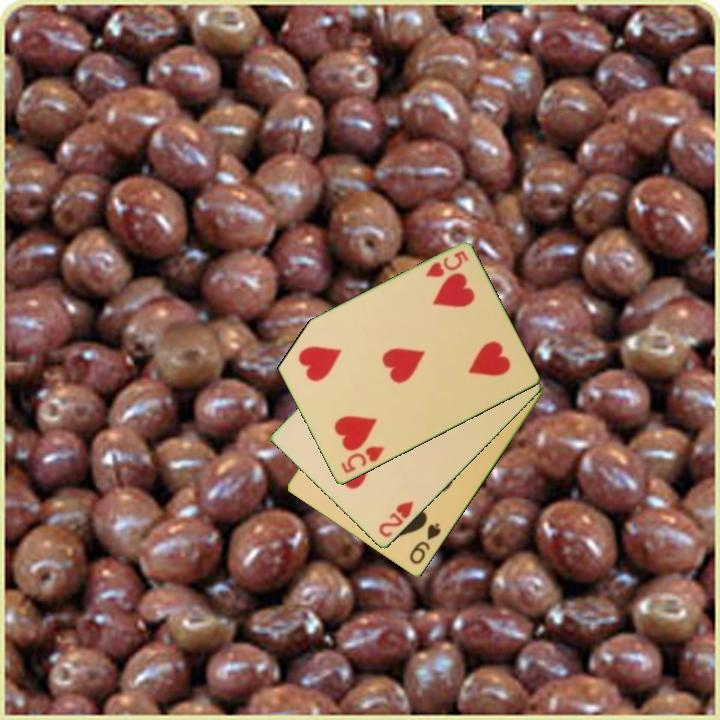2h: (375, 498, 417, 541)
5h: (337, 443, 387, 477), (422, 247, 471, 281)
9s: (406, 520, 444, 568)
